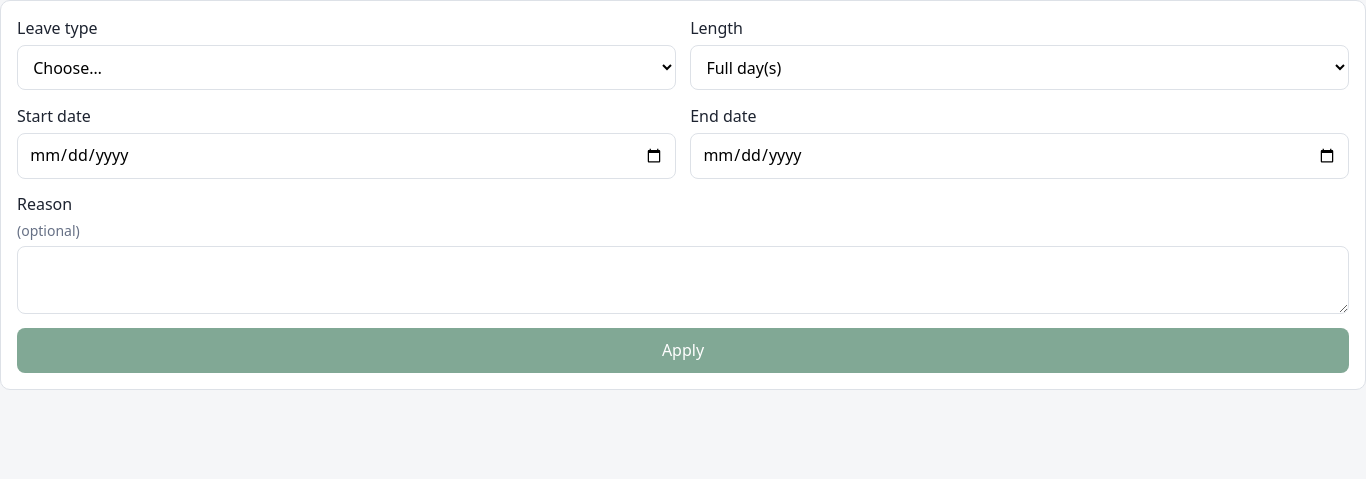
Scenario: ApplyLeaveForm › holidays in the preview (US-18) › leaves a holiday out of the count and names it
In the date field labelled "Start date": (346, 156) [17,132,676,179], type "2026-04-29"
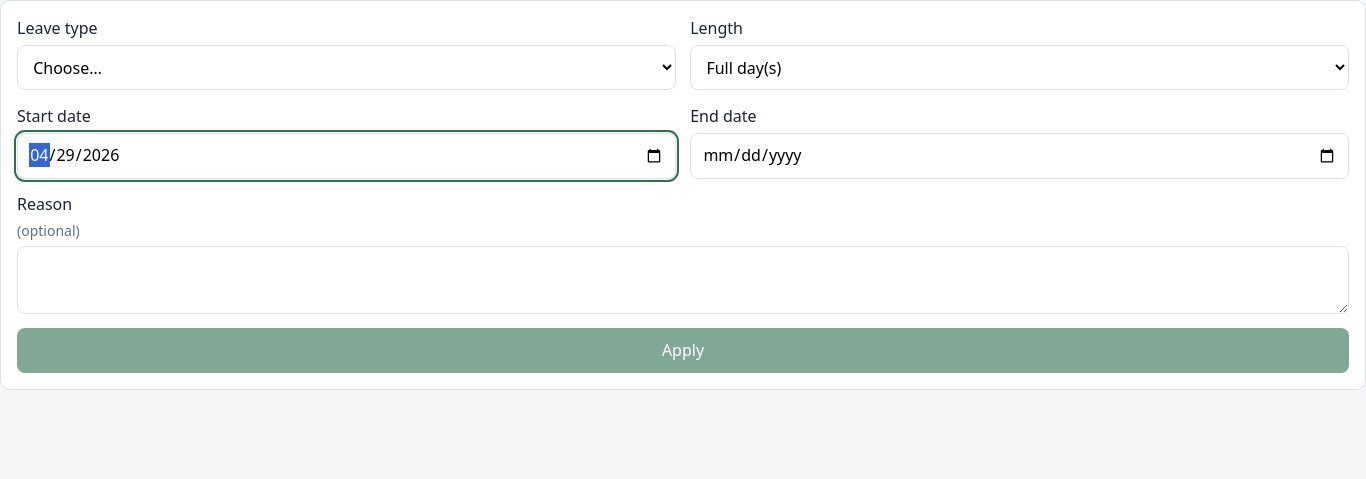
In the date field labelled "End date": (1020, 156) [690,132,1349,179], type "2026-05-04"
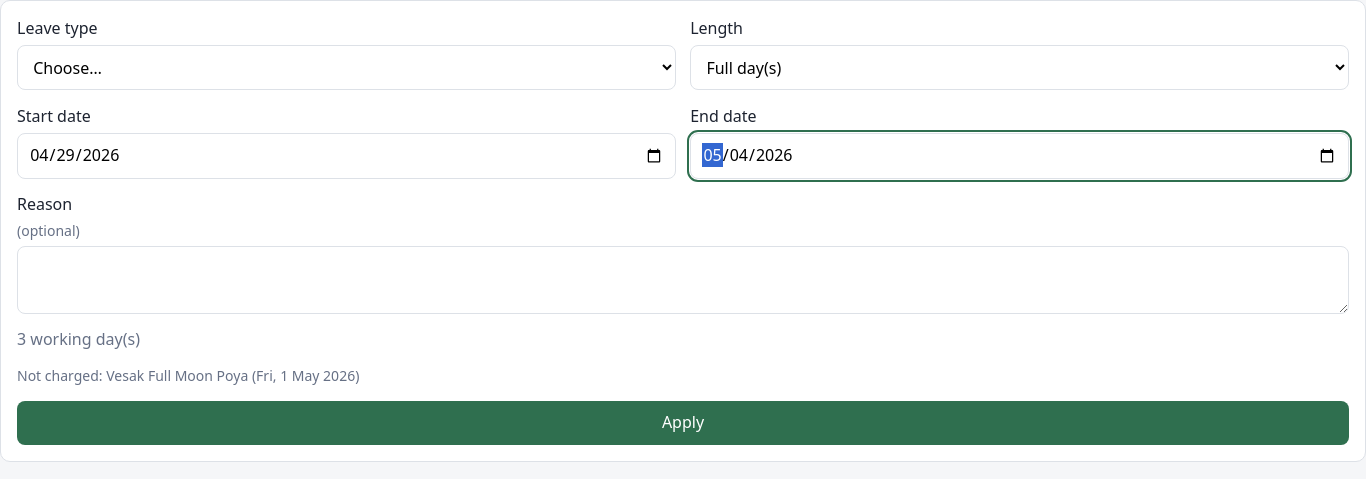
Expected: the text "3 working day(s)" is shown, [17,328,140,350]
Expected: the text "Not charged: Vesak Full Moon Poya (Fri, 1 May 2026)" is shown, [17,366,359,385]
